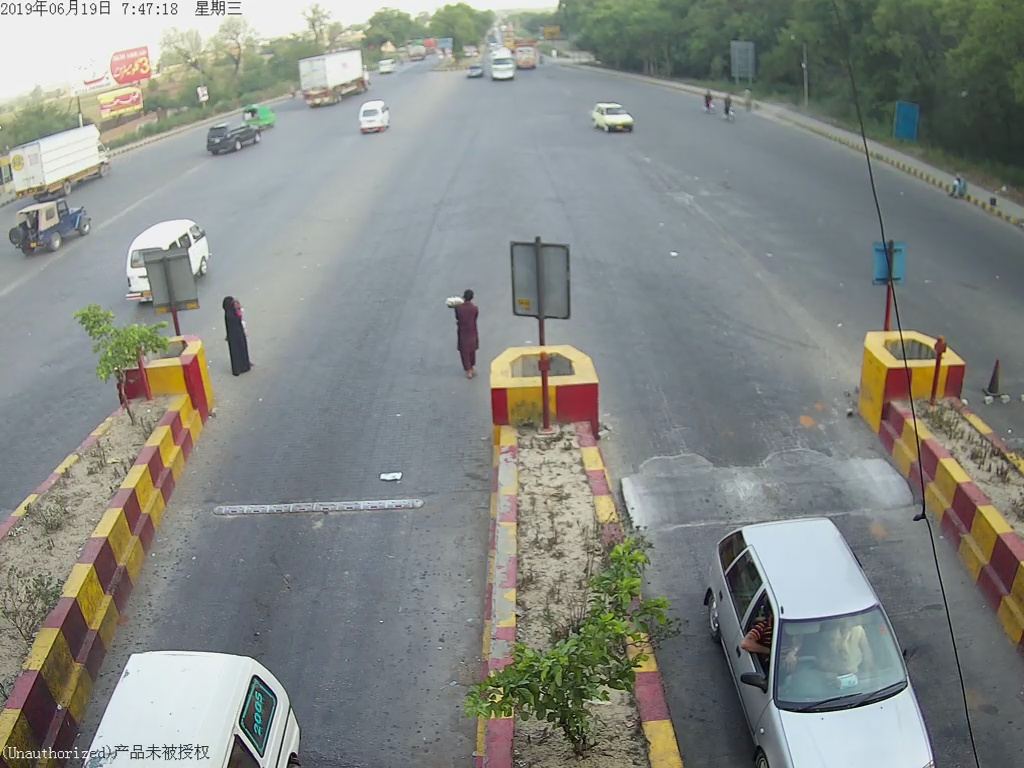Cat-1: (587, 97, 635, 141)
